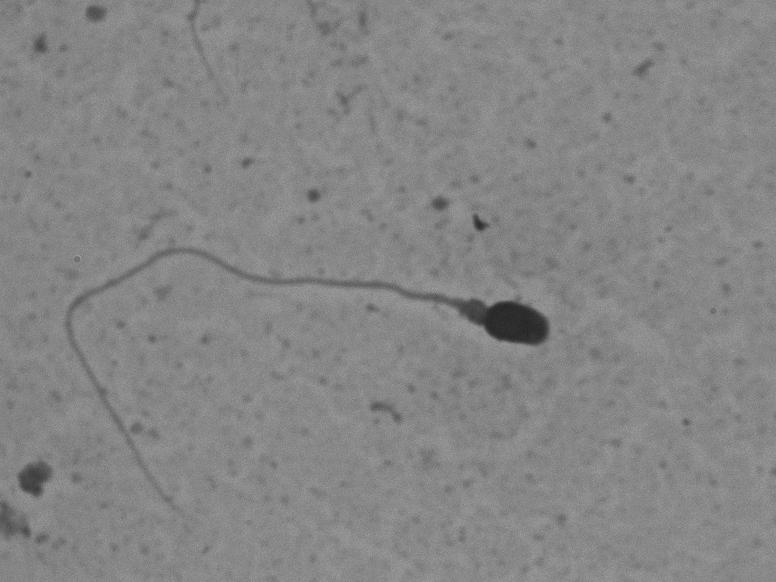Abnormal: (44, 226, 611, 509)
